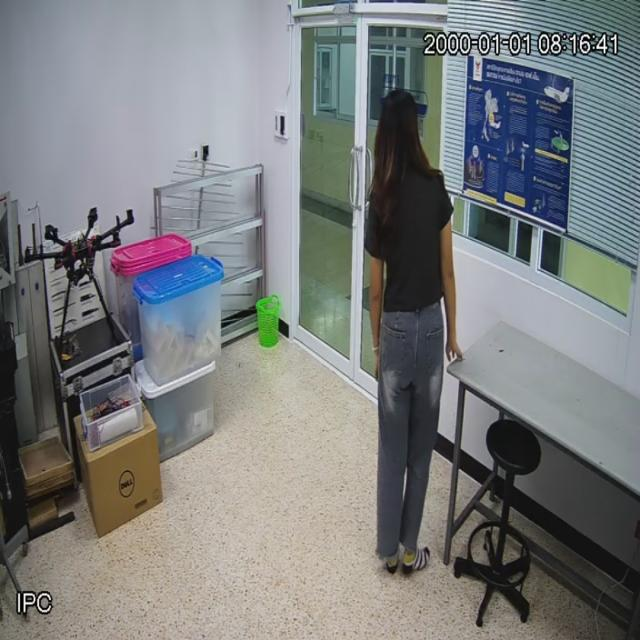normal: (360, 74, 462, 587)
